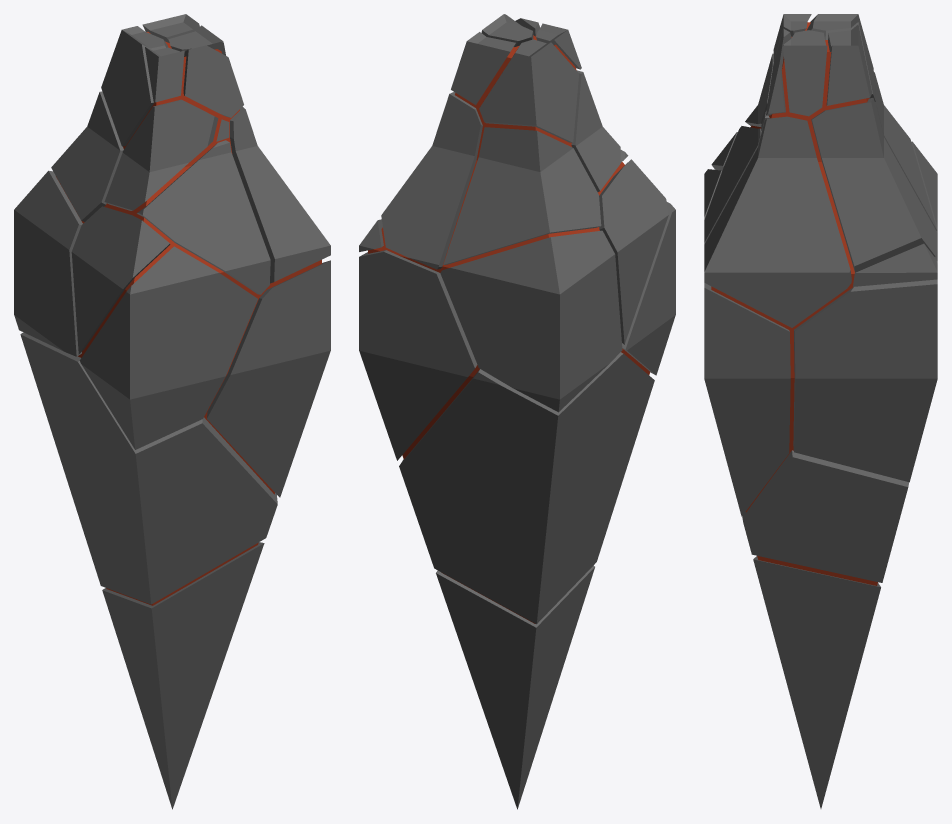
File: Obelisk.glb
3 views of the same model, side by side, from view 1: azimuth 30°, elevation 25°; view 2: azimuth 150°, elevation 25°; view 3: azimuth 270°, elevation 25° (orthographic).
Visible parts, largest first — view 1: Obelisk; view 2: Obelisk; view 3: Obelisk.
Boxes of the visible parts, x1,y1,x2,y2 form: Obelisk: [14, 14, 330, 809]; Obelisk: [359, 14, 675, 809]; Obelisk: [704, 14, 937, 808].
Size of the model in its own units: 2 by 7.37 by 2.
1 material, 1 textured.
